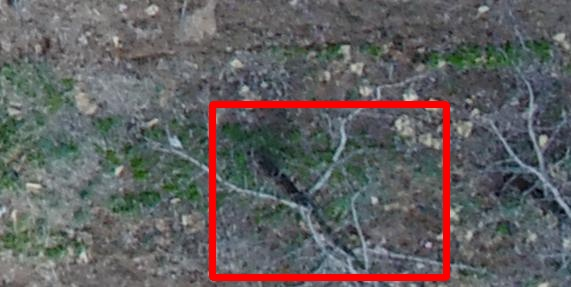apple: (212, 104, 446, 277)
